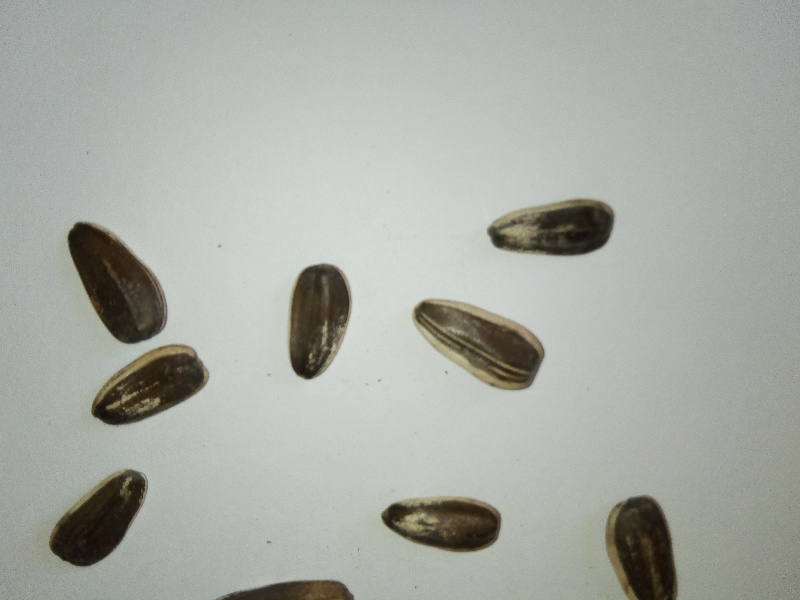girasol: (405, 295, 549, 408), (56, 214, 174, 345), (46, 461, 155, 575), (86, 342, 213, 432), (277, 256, 357, 388), (481, 191, 619, 265), (372, 493, 511, 559)
